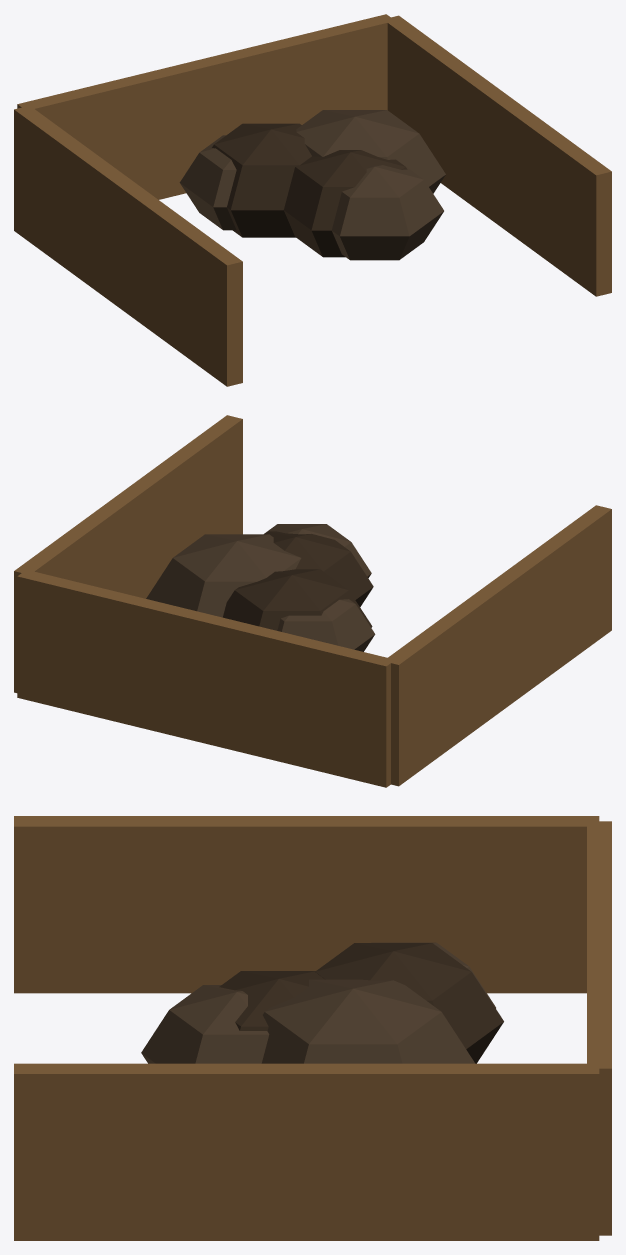
Rendered from pile_fertilizer_1.glb.
The picture shows the model from 3 angles, top to bottom: view 1: azimuth 30°, elevation 25°; view 2: azimuth 150°, elevation 25°; view 3: azimuth 270°, elevation 25°; orthographic projection. The views are drawn at different scales.
Parts seen in each view (by area): view 1: pile_fertilizer_1; view 2: pile_fertilizer_1; view 3: pile_fertilizer_1.
Boxes of the visible parts, bbox=[...] form: pile_fertilizer_1: bbox=[14, 14, 611, 386]; pile_fertilizer_1: bbox=[14, 415, 611, 787]; pile_fertilizer_1: bbox=[14, 816, 611, 1240].
Size of the model in its own units: 1.46 by 0.44 by 1.43.
